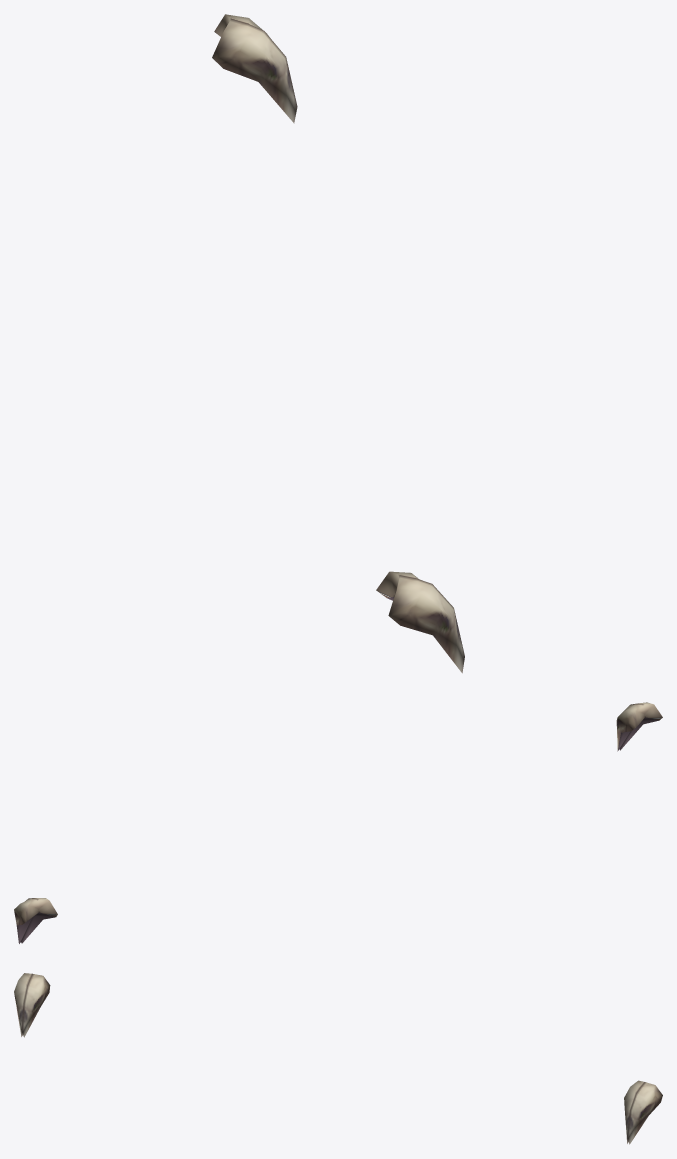
File: area_12_15.fbx
The picture shows the model from 3 angles, top to bottom: view 1: azimuth 30°, elevation 25°; view 2: azimuth 150°, elevation 25°; view 3: azimuth 270°, elevation 25°; orthographic projection. The views are drawn at different scales.
Parts seen in each view (by area): view 1: area_12_15; view 2: area_12_15; view 3: area_12_15.
Part boxes in pixels (bbox=[...]): area_12_15: bbox=[212, 14, 464, 673]; area_12_15: bbox=[14, 702, 662, 943]; area_12_15: bbox=[14, 973, 662, 1144].
Size of the model in its own units: 6.35 by 1.21 by 13.84.
